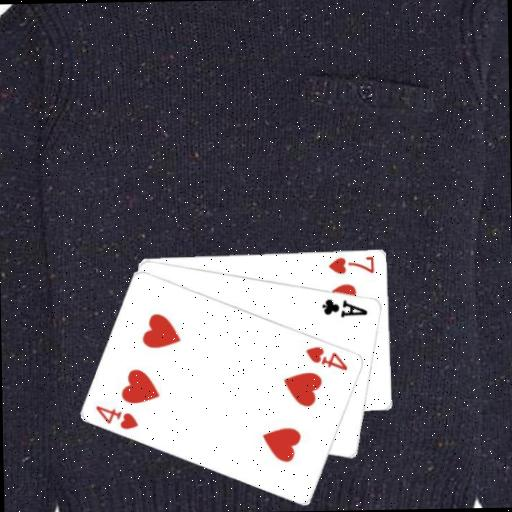4H: (93, 401, 141, 432), (304, 343, 350, 373)
7H: (325, 253, 376, 275)
AC: (320, 295, 370, 319)
